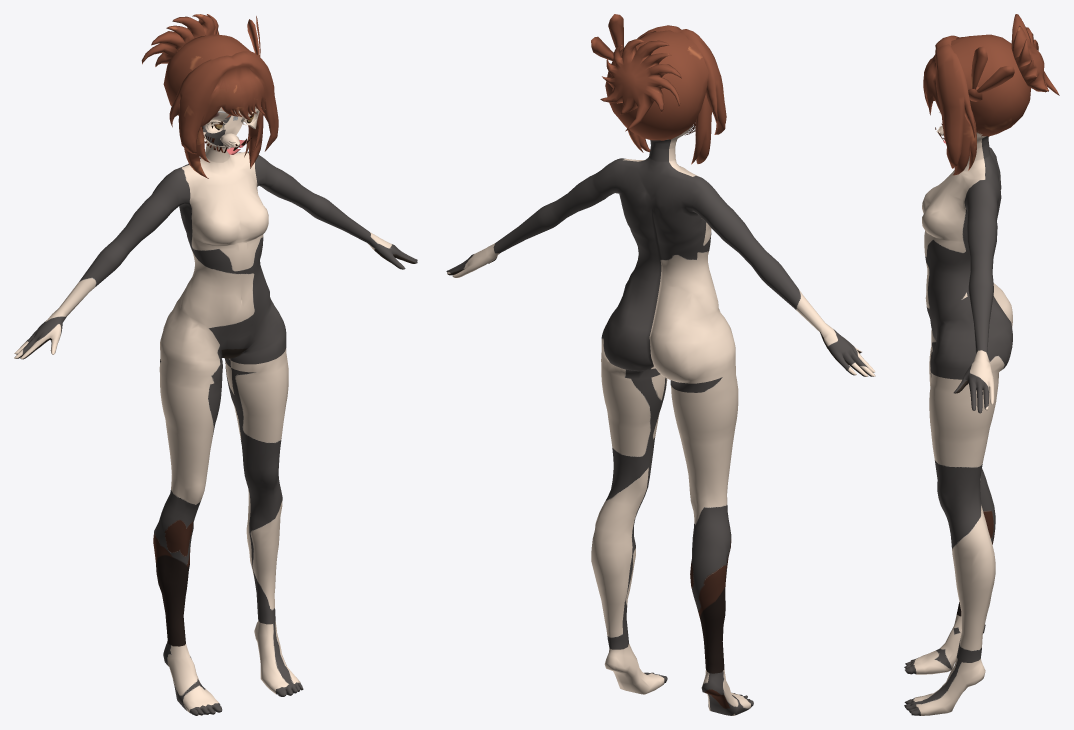
Rendered from Kuro V2 try 2.fbx.
3 renders of one model, left to right at view 1: azimuth 30°, elevation 25°; view 2: azimuth 150°, elevation 25°; view 3: azimuth 270°, elevation 25°, orthographic. The views are drawn at different scales.
Parts seen in each view (by area): view 1: Kuro_mesh; view 2: Kuro_mesh; view 3: Kuro_mesh.
Part boxes in pixels (<box>): Kuro_mesh: <box>14,14,417,715</box>; Kuro_mesh: <box>446,14,875,715</box>; Kuro_mesh: <box>904,14,1059,715</box>.
Size of the model in its own units: 91.71 by 142 by 30.13.
